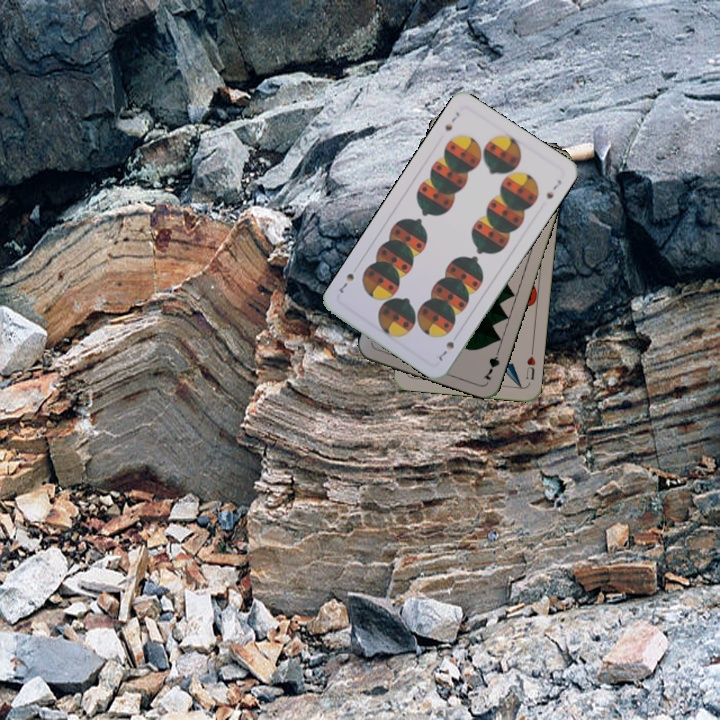G7: (479, 344, 503, 383)
HU: (522, 345, 538, 382)
S7: (434, 337, 457, 364), (441, 108, 462, 134)
